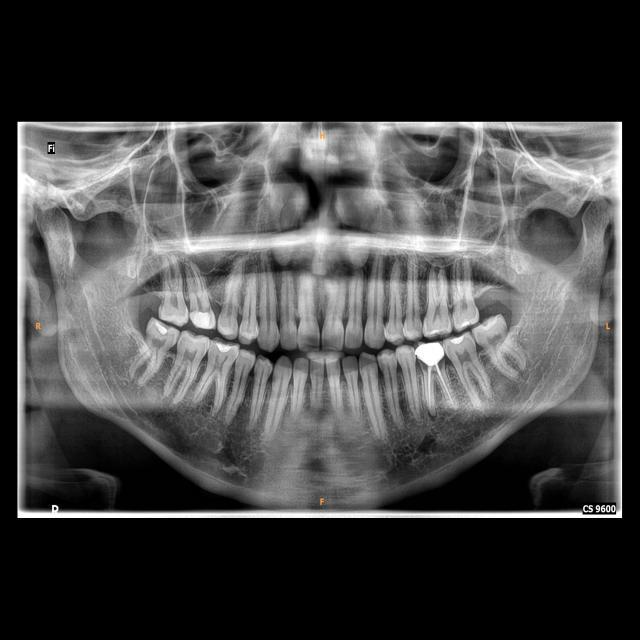dolgu: (192, 307, 217, 332), (150, 316, 170, 340), (449, 332, 468, 347), (216, 340, 236, 354)
kanal-tedavisi: (424, 364, 456, 414)
kaplama: (416, 339, 446, 364)
